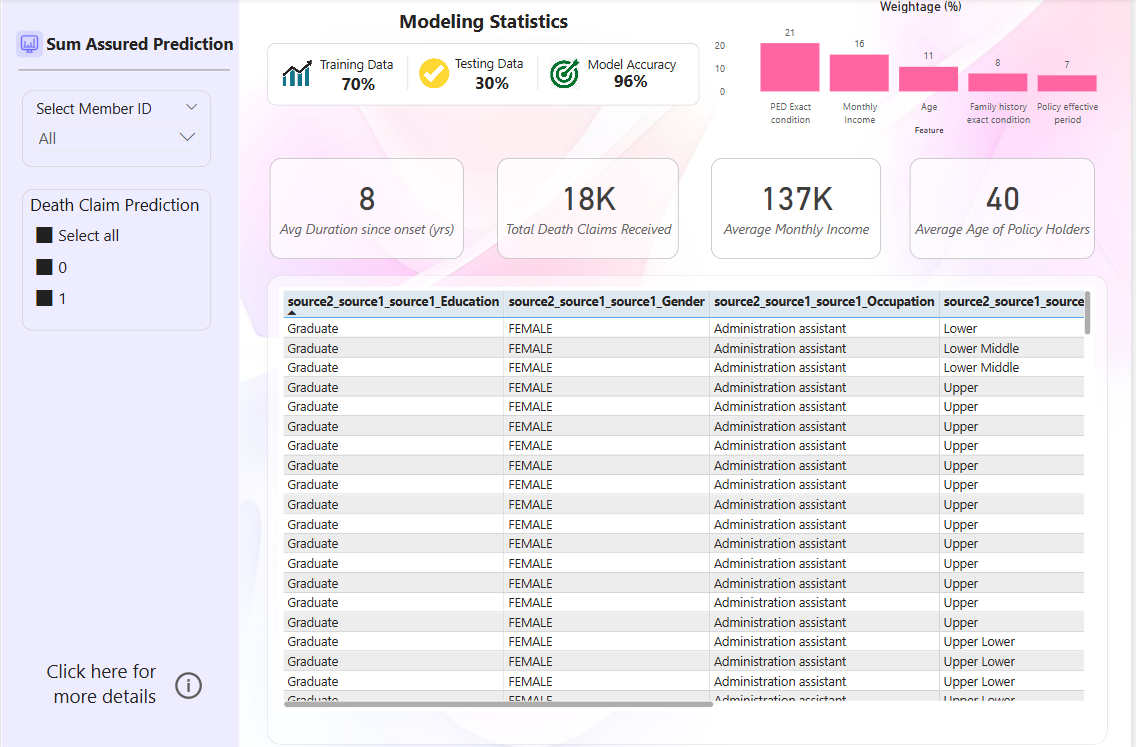

The dashboard page shown, as its layout file describes it:
{"tool":"powerbi","page":{"name":"Page 2","canvas":[1280,720],"ordinal":0},"visuals":[{"type":"shape","box":[30,36.2,551.2,80],"z":0},{"type":"image","box":[50.6,53.7,46.9,45.4],"z":1000},{"type":"textbox","box":[97.5,46.8,119.2,40],"z":2000},{"type":"textbox","box":[126,66.8,66.2,43.1],"z":3000},{"type":"textbox","box":[270,44.5,119.3,40],"z":4000},{"type":"textbox","box":[296.7,65.2,66,42.7],"z":5000},{"type":"textbox","box":[439,46.3,134,40],"z":6000},{"type":"textbox","box":[473.6,64.9,66,43.3],"z":7000},{"type":"image","box":[391.7,53.2,47.3,45.5],"z":8000},{"type":"image","box":[223.5,53.2,48.3,45.8],"z":9000},{"type":"textbox","box":[186.2,0,250,51.2],"z":10000},{"type":"shape","box":[62.5,131.2,431.2,228.8],"z":11000},{"type":"textbox","box":[163.7,131,246.2,70],"z":12000},{"type":"textbox","box":[90,192.2,306.2,180],"z":13000},{"type":"textbox","box":[352.5,192.2,130,172.5],"z":14000},{"type":"donutChart","title":"Predicted Risk Distribution","fields":{"Category":["Query1.Risk Status"],"Y":["CountNonNull(Query1.Risk Status)"]},"box":[581.2,21.2,462.5,325],"z":15000},{"type":"card","fields":{"Values":["Count(Query1.APP_NO)"]},"box":[1062.5,246.2,191.2,91.2],"z":16000},{"type":"tableEx","fields":{"Values":["Query1.APP_NO","Query1.Risk Status","Query1.Predicted Score","Query1.Credit_Score","Query1.DTI","Query1.Number_Of_Active_Loans","Query1.Number_Of_Previous_Applications","Query1.NetSalary","Query1.LOAN_AMTREQD","Query1.LOAN_DEFINEDTENOR"]},"box":[511.2,360,755,336.2],"z":17000},{"type":"slicer","title":"Risk Status","fields":{"Values":["Query1.Risk Status"]},"box":[1071.2,21.2,182.5,175],"z":18000},{"type":"textbox","box":[78.8,365,392.5,67.5],"z":19000},{"type":"card","fields":{"Values":["Avg(Query1.NetSalary)"]},"box":[62.5,413.8,201.2,81.2],"z":20000},{"type":"card","fields":{"Values":["Avg(Query1.Credit_Score)"]},"box":[292.5,412.5,193.8,81.2],"z":21000},{"type":"card","fields":{"Values":["Avg(Query1.Employer_ratings)"]},"box":[62.5,511.2,201.2,83.8],"z":22000},{"type":"card","fields":{"Values":["Avg(Query1.LOAN_AMTREQD)"]},"box":[290,511.2,196.2,83.8],"z":23000},{"type":"card","fields":{"Values":["Avg(Query1.TOTAL_YRSEXP)"]},"box":[62.5,612.5,201.2,83.8],"z":24000},{"type":"card","fields":{"Values":["Avg(Query1.Number_Of_Active_Loans)"]},"box":[290,612.5,197.5,83.8],"z":25000},{"type":"shape","box":[186.2,53.8,58.8,42.5],"z":26000},{"type":"shape","box":[351.2,53.8,58.8,42.5],"z":27000}]}

Visuals, with their boxes on the page's 1280x720 design canvas (x1, y1, x2, y2). These are canvas units, not pixel positions in the 1136x747 screenshot, which may show the page scaled, cropped or inside an application window:
shape: region(30, 36, 581, 116)
image: region(51, 54, 98, 99)
textbox: region(98, 47, 217, 87)
textbox: region(126, 67, 192, 110)
textbox: region(270, 44, 389, 84)
textbox: region(297, 65, 363, 108)
textbox: region(439, 46, 573, 86)
textbox: region(474, 65, 540, 108)
image: region(392, 53, 439, 99)
image: region(224, 53, 272, 99)
textbox: region(186, 0, 436, 51)
shape: region(62, 131, 494, 360)
textbox: region(164, 131, 410, 201)
textbox: region(90, 192, 396, 372)
textbox: region(352, 192, 482, 365)
"Predicted Risk Distribution" donutChart: region(581, 21, 1044, 346)
card - Count(Query1.APP_NO): region(1062, 246, 1254, 337)
tableEx - Query1.APP_NO x Query1.Risk Status: region(511, 360, 1266, 696)
"Risk Status" slicer: region(1071, 21, 1254, 196)
textbox: region(79, 365, 471, 432)
card - Avg(Query1.NetSalary): region(62, 414, 264, 495)
card - Avg(Query1.Credit_Score): region(292, 412, 486, 494)
card - Avg(Query1.Employer_ratings): region(62, 511, 264, 595)
card - Avg(Query1.LOAN_AMTREQD): region(290, 511, 486, 595)
card - Avg(Query1.TOTAL_YRSEXP): region(62, 612, 264, 696)
card - Avg(Query1.Number_Of_Active_Loans): region(290, 612, 488, 696)
shape: region(186, 54, 245, 96)
shape: region(351, 54, 410, 96)
